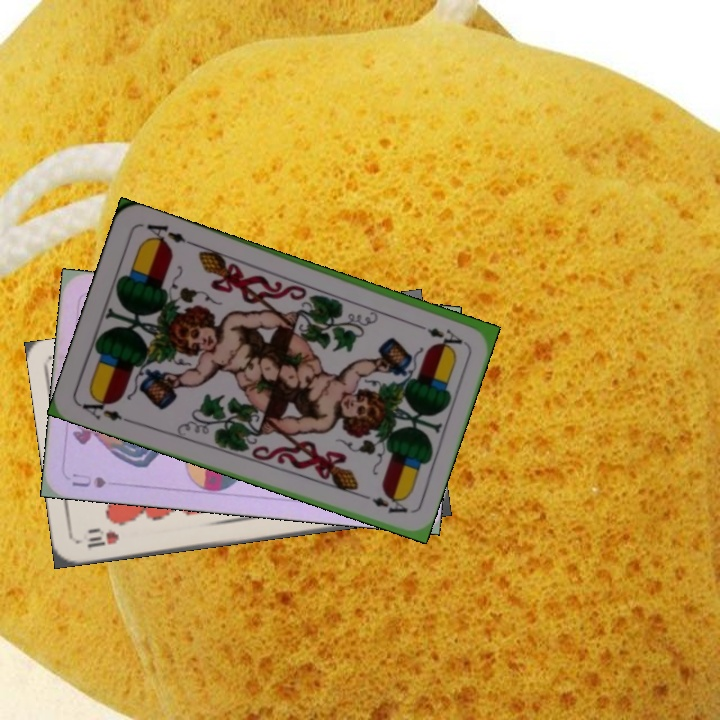EA: (76, 391, 134, 426), (410, 318, 465, 347)
H10: (83, 526, 122, 551)
SU: (68, 469, 108, 491)
